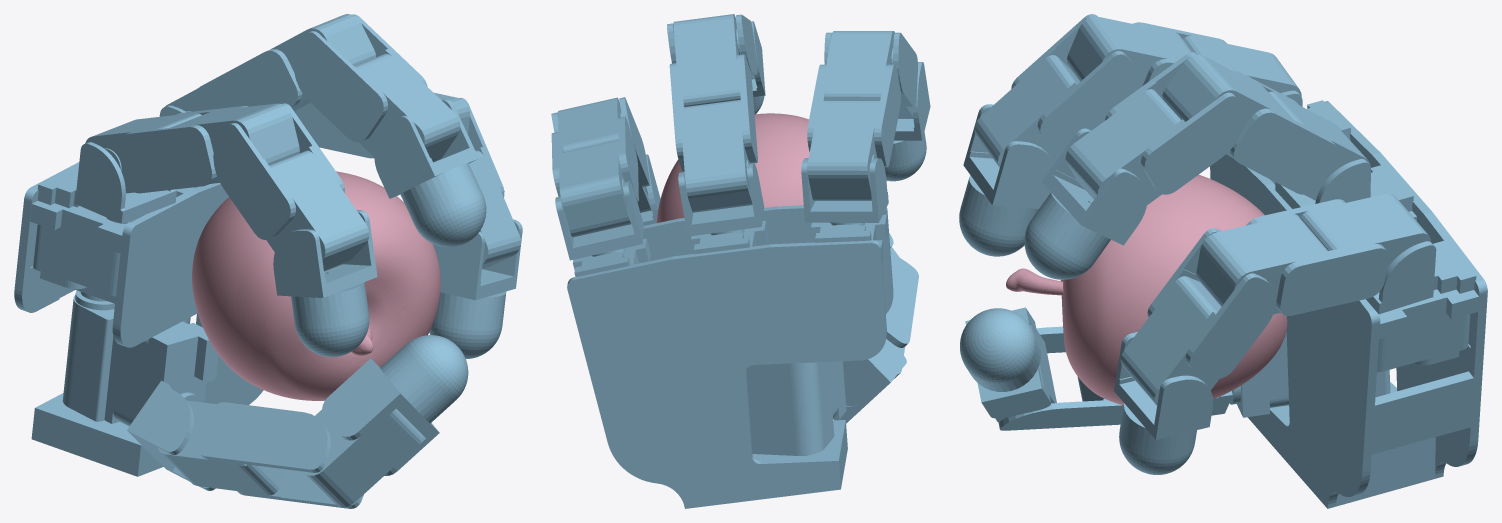
The picture shows the model from 3 angles, left to right: view 1: azimuth 30°, elevation 25°; view 2: azimuth 150°, elevation 25°; view 3: azimuth 270°, elevation 25°; orthographic projection. The views are drawn at different scales.
Parts seen in each view (by area): view 1: world, apple.stl; view 2: world, apple.stl; view 3: world, apple.stl.
Boxes of the visible parts, box(x1,y1,x2,y2) form: world: box(14, 14, 522, 508); apple.stl: box(192, 171, 440, 400); world: box(551, 14, 930, 508); apple.stl: box(656, 113, 809, 222); world: box(959, 14, 1487, 508); apple.stl: box(1006, 174, 1287, 405).
Size of the model in its own units: 0.1579 by 0.1603 by 0.166.
